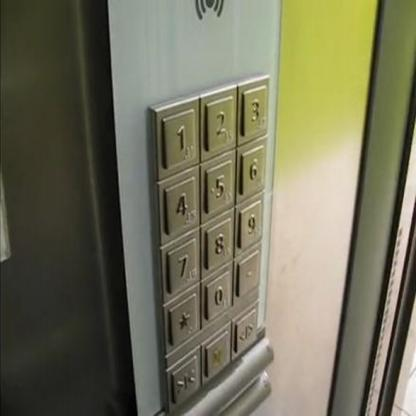-: (234, 247, 260, 299)
0: (202, 268, 230, 320)
1: (148, 92, 199, 183)
2: (193, 81, 236, 163)
3: (230, 73, 270, 146)
4: (152, 165, 200, 245)
5: (197, 147, 236, 224)
6: (234, 134, 264, 200)
7: (162, 236, 198, 294)
8: (200, 216, 234, 271)
9: (236, 196, 263, 249)
alarm: (203, 326, 229, 380)
close: (168, 352, 199, 405)
open: (233, 305, 258, 355)
s: (162, 282, 200, 348)
